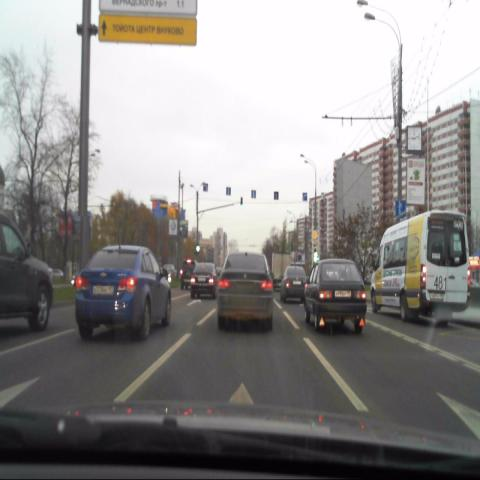6_6: (396, 200, 406, 217)
